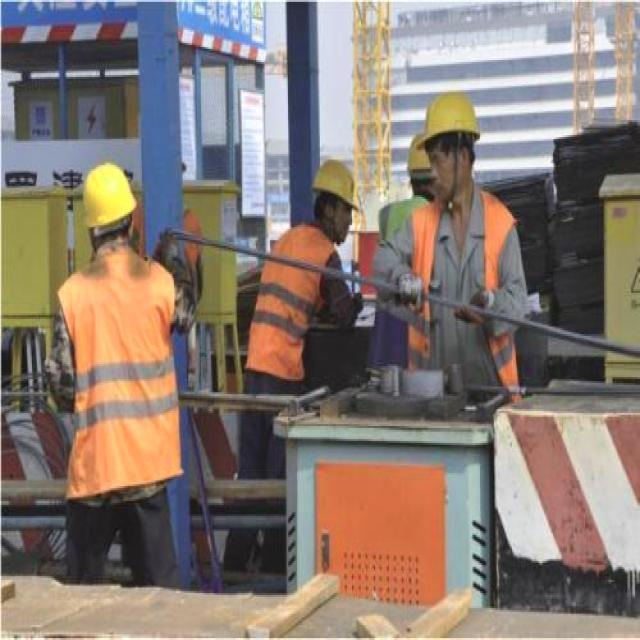face_nomask: (428, 152, 464, 203), (320, 199, 355, 242)
hand_glove: (457, 286, 495, 330), (398, 264, 428, 314)
head_helmet: (412, 84, 489, 144), (78, 159, 138, 231), (310, 160, 357, 207), (403, 128, 434, 170)
person: (60, 165, 179, 589), (237, 158, 361, 471), (407, 84, 527, 406), (382, 138, 447, 382)
vest: (62, 261, 180, 478), (410, 203, 528, 392), (238, 229, 341, 360)
